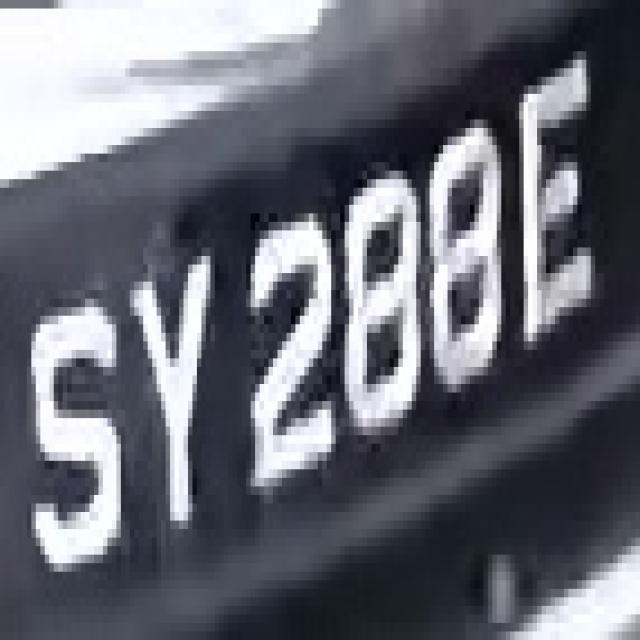2: (242, 171, 340, 469)
8: (420, 120, 506, 426), (336, 145, 425, 435)
E: (510, 42, 604, 376)
S: (22, 273, 130, 623)
Y: (121, 222, 228, 537)
